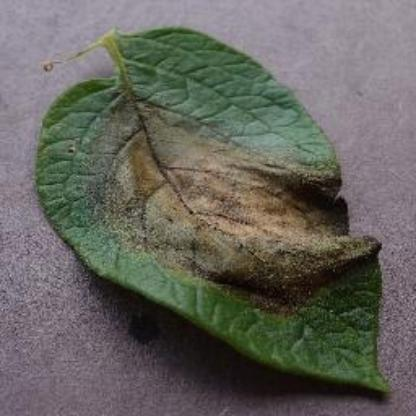Late-Blight: (34, 23, 404, 397)
